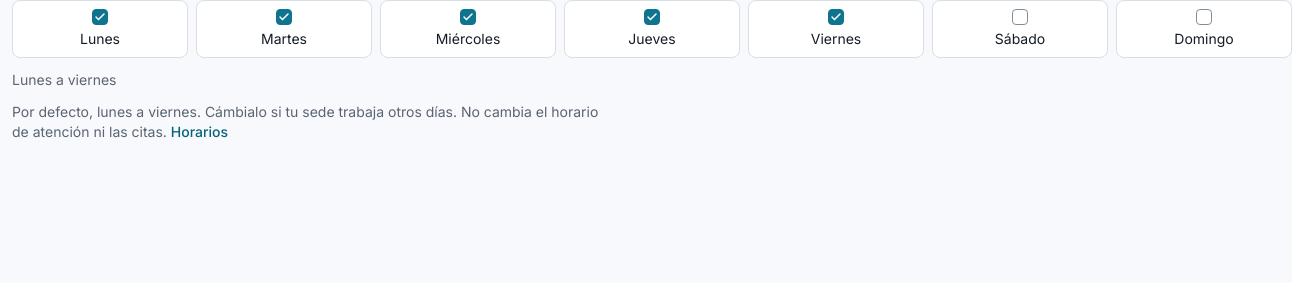
Test case: WorkingWeekdaysForm (DX-316, spec §7.2) › API 400 shows InlineError next to the fieldset
The width and height of the screenshot is (1292, 283).
Click the checkbox labelled "Sábado" at [1020, 17], box [1012,9,1028,25]
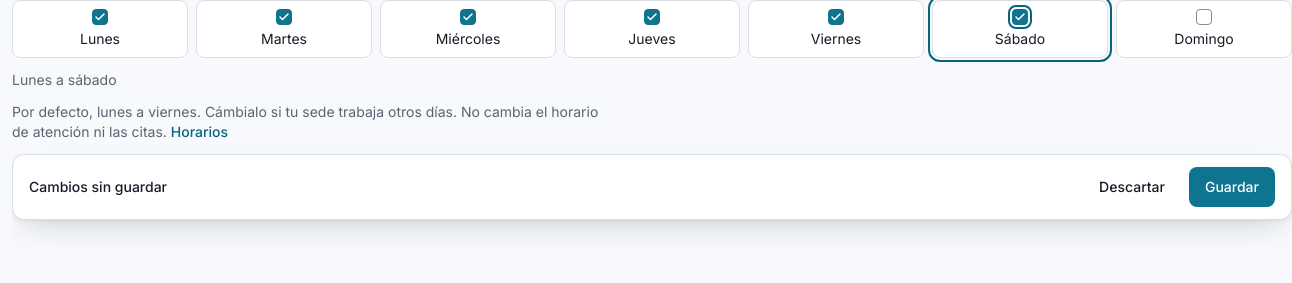
Click the button with aria-label "Guardar días hábiles" at [1232, 187], box [1189,167,1275,207]
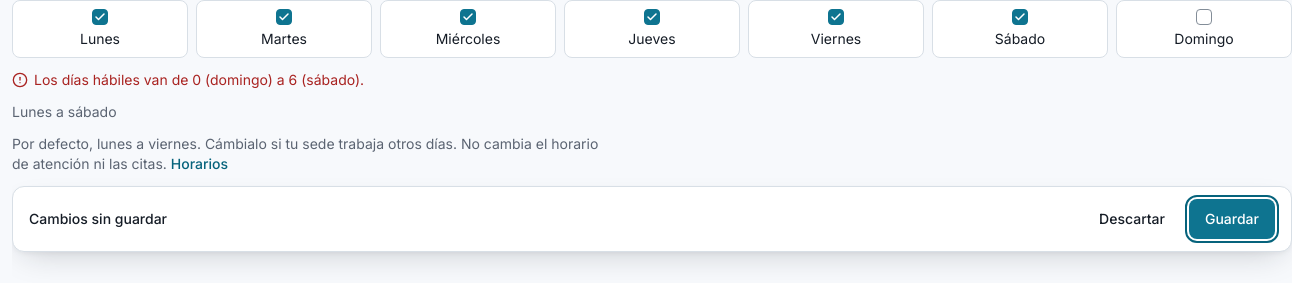
Expected: the message reads "Los días hábiles van de 0 (domingo) a 6 (sábado).", [34,71,364,88]
